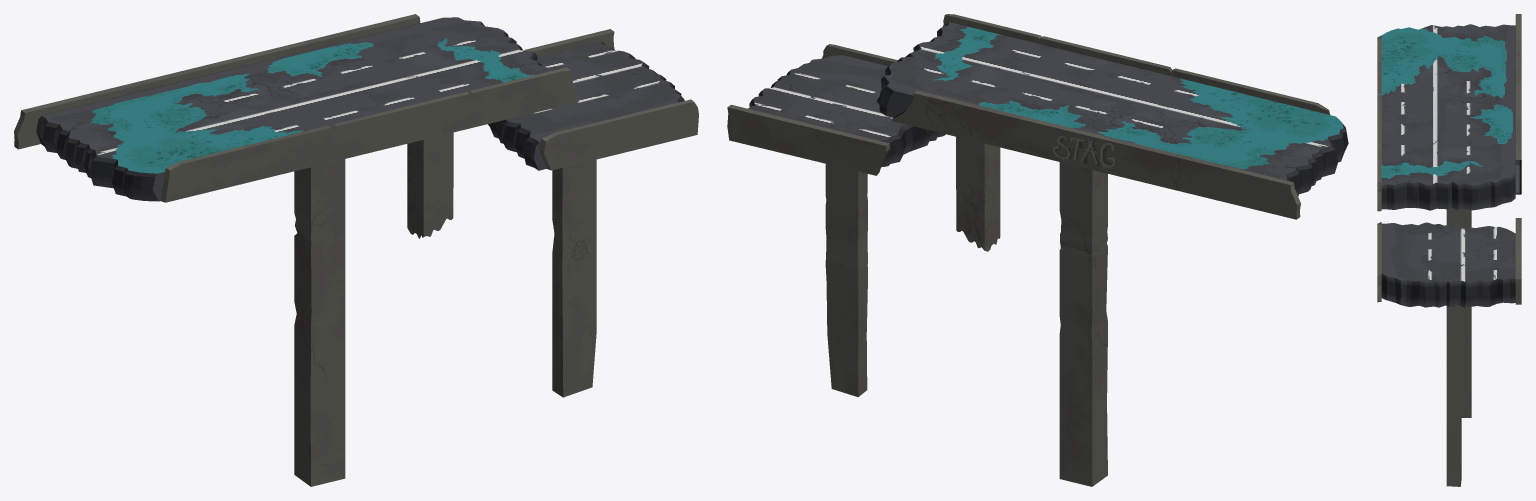
File: MESH_ENV_Highway_FLIPPED_01.fbx
3 views of the same model, side by side, from view 1: azimuth 30°, elevation 25°; view 2: azimuth 150°, elevation 25°; view 3: azimuth 270°, elevation 25° (orthographic). The views are drawn at different scales.
Parts seen in each view (by area): view 1: Road_Flipped; view 2: Road_Flipped; view 3: Road_Flipped.
Part boxes in pixels (bbox=[...]): Road_Flipped: bbox=[14, 14, 698, 486]; Road_Flipped: bbox=[727, 14, 1348, 486]; Road_Flipped: bbox=[1377, 14, 1521, 486].
Size of the model in its own units: 52.88 by 33.36 by 14.44.
1 material, 1 textured.
